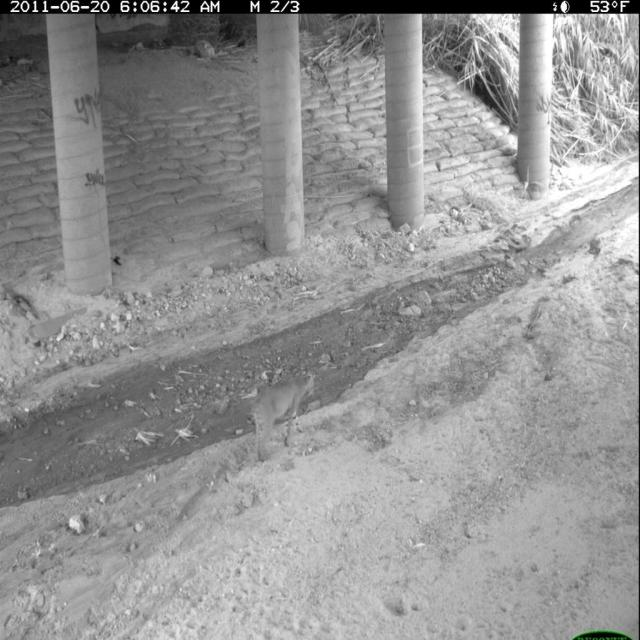bobcat: (245, 368, 319, 466)
